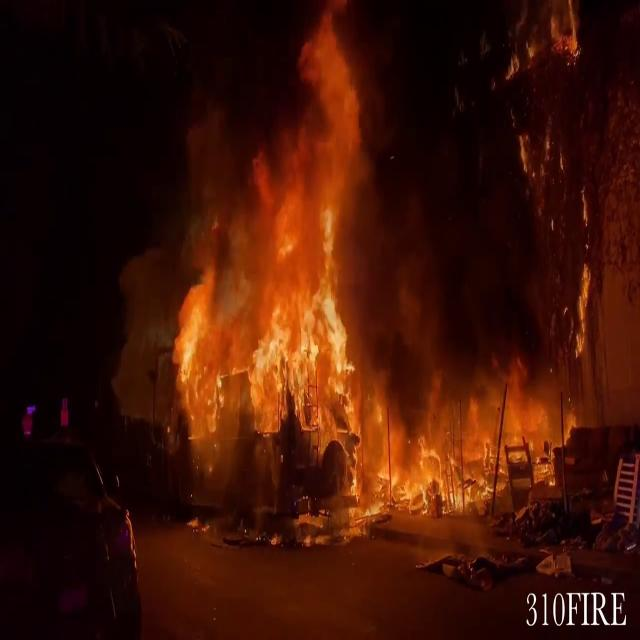Fire: (153, 0, 397, 511), (347, 368, 581, 548)
